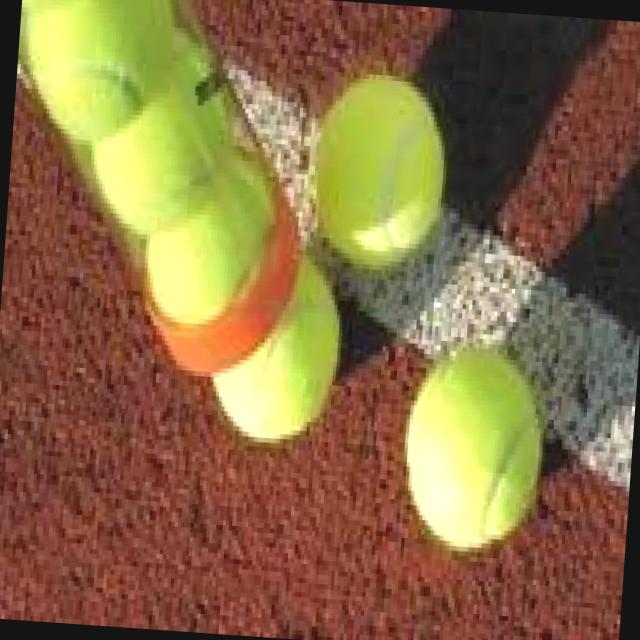Tennis Ball: (93, 27, 239, 239), (401, 347, 545, 556), (303, 74, 449, 280), (210, 254, 345, 448), (145, 145, 274, 327), (25, 0, 177, 144)
